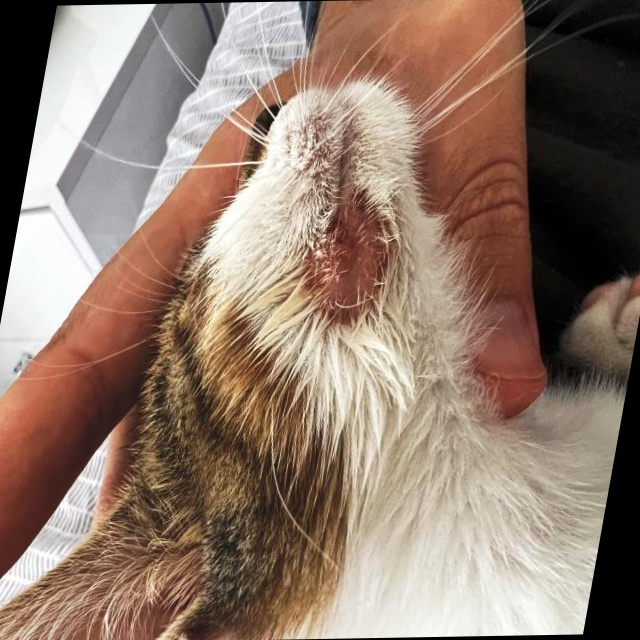ringworm: (295, 208, 401, 337)
